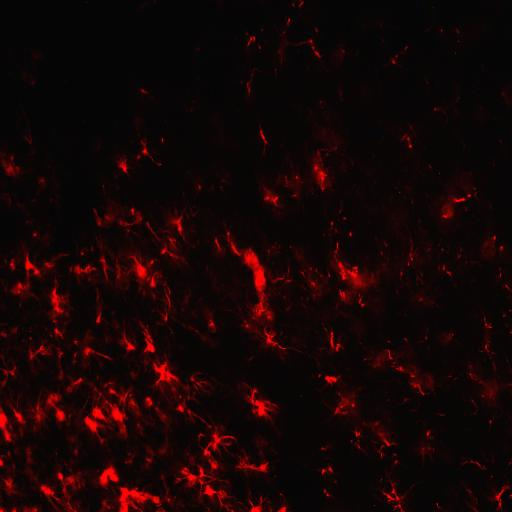microglia: (213, 224, 290, 357), (327, 241, 393, 315), (147, 356, 215, 426), (76, 384, 145, 444), (3, 246, 74, 304), (286, 132, 344, 202), (98, 243, 162, 299), (426, 166, 484, 224), (175, 454, 233, 510), (149, 204, 196, 273), (116, 135, 168, 176), (92, 201, 144, 238), (38, 474, 88, 512), (294, 247, 329, 300), (323, 374, 359, 420), (32, 390, 72, 431), (236, 384, 278, 423), (372, 469, 410, 512), (102, 485, 162, 512), (26, 340, 64, 379), (72, 333, 115, 367), (46, 280, 70, 340), (0, 393, 28, 442), (365, 418, 398, 459), (5, 47, 39, 86), (401, 210, 421, 269), (404, 365, 443, 395), (200, 423, 235, 454), (112, 318, 137, 360), (412, 428, 443, 461), (0, 450, 20, 500), (256, 183, 284, 218), (236, 493, 287, 512), (478, 372, 506, 405), (479, 312, 497, 358), (234, 454, 271, 476), (156, 282, 174, 327), (323, 321, 345, 357), (15, 96, 32, 142), (369, 348, 402, 370), (407, 289, 440, 311), (490, 481, 512, 512), (0, 354, 19, 388), (138, 321, 156, 356), (94, 464, 118, 490), (461, 481, 480, 512), (70, 262, 99, 282), (0, 153, 23, 178), (154, 362, 178, 384), (481, 235, 499, 258), (387, 46, 406, 67), (225, 232, 241, 256), (96, 285, 104, 325), (438, 330, 457, 346), (116, 154, 130, 175), (316, 463, 337, 477), (84, 415, 100, 433), (246, 68, 256, 94), (400, 133, 413, 152), (462, 459, 485, 469), (310, 42, 322, 58), (40, 485, 54, 496), (244, 31, 254, 46), (259, 128, 267, 145), (322, 487, 334, 498), (207, 320, 216, 333), (324, 374, 337, 382), (321, 443, 331, 451)
